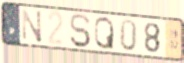0: (118, 18, 139, 52)
2: (47, 10, 66, 47)
8: (143, 21, 162, 54)
N: (21, 8, 43, 45)
Q: (93, 15, 116, 51)
S: (69, 13, 92, 49)
